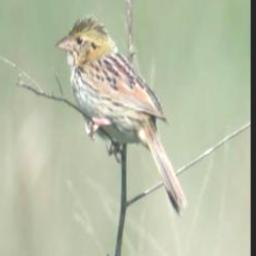Sparrow: (52, 12, 192, 219)
